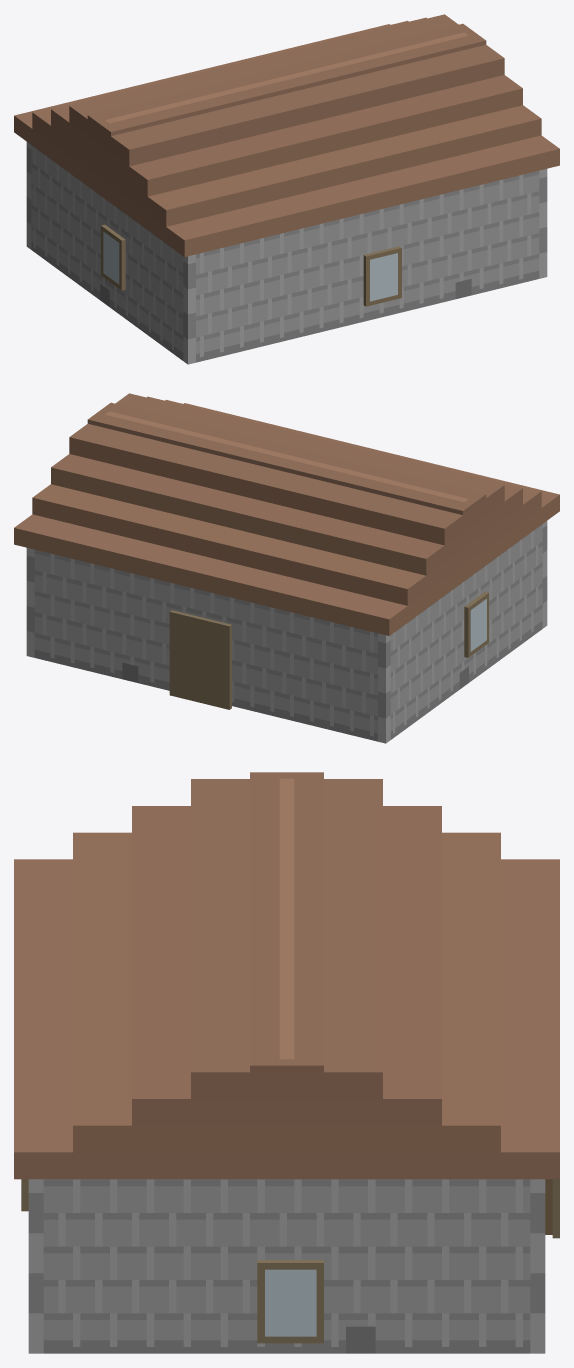
File: cantera_04.glb
3 views of the same model, one above another, from view 1: azimuth 30°, elevation 25°; view 2: azimuth 150°, elevation 25°; view 3: azimuth 270°, elevation 25° (orthographic). The views are drawn at different scales.
Parts seen in each view (by area): view 1: cantera_04; view 2: cantera_04; view 3: cantera_04.
Part boxes in pixels (<box>): cantera_04: <box>14,14,559,364</box>; cantera_04: <box>14,393,559,743</box>; cantera_04: <box>14,772,559,1353</box>.
Bounding box in the file's own units: 9.4 × 4.4 × 7.4.
